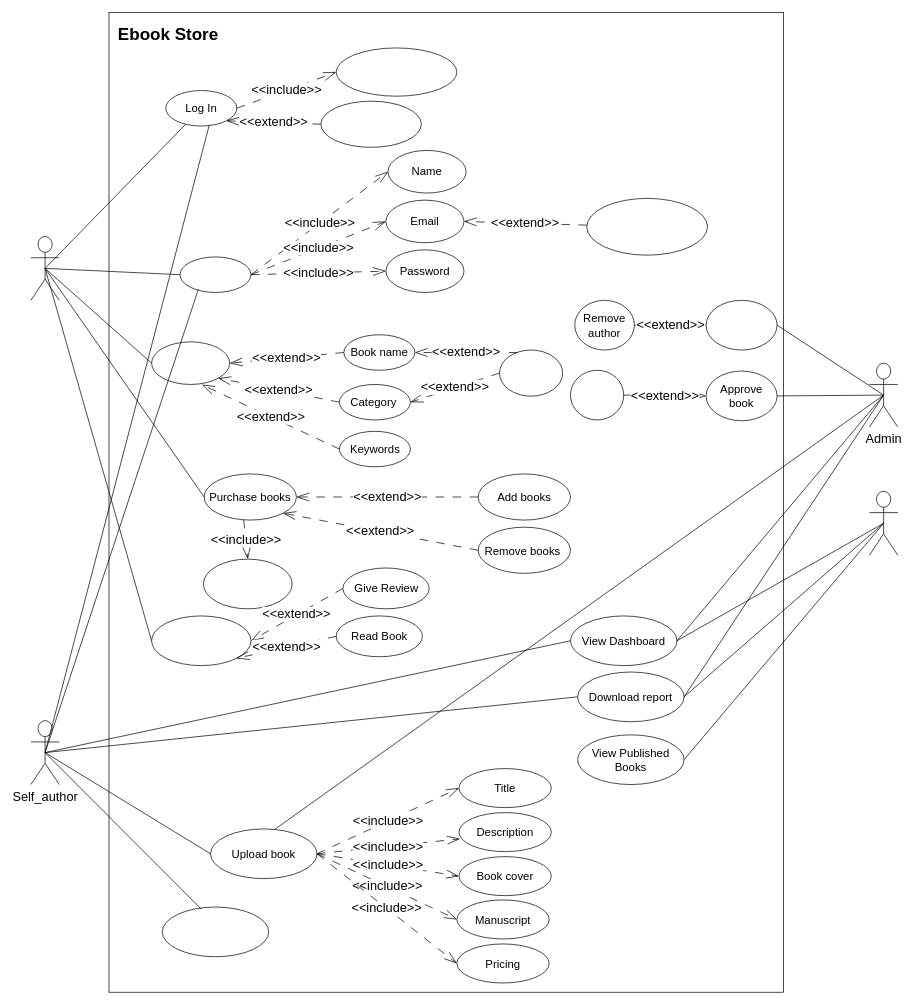
Image size: 922x1005. Some labels were removed from this diagram. The shapes that lost their labels are listed below. From the top down, each one's centre as x and y in pixels, then its label:
(396,71): Verify username & password
(370,123): Display login error
(647,226): Email Already Exists
(44,268): User
(215,274): Sign Up
(741,325): Approve author
(190,362): Search book
(531,372): View Book Details
(597,395): Remove book
(883,523): Publisher
(247,583): Make payment
(201,640): View purchased books
(215,931): View Written Books
